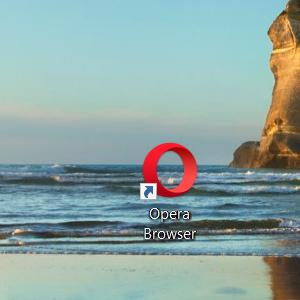opera: (140, 142, 198, 200)
